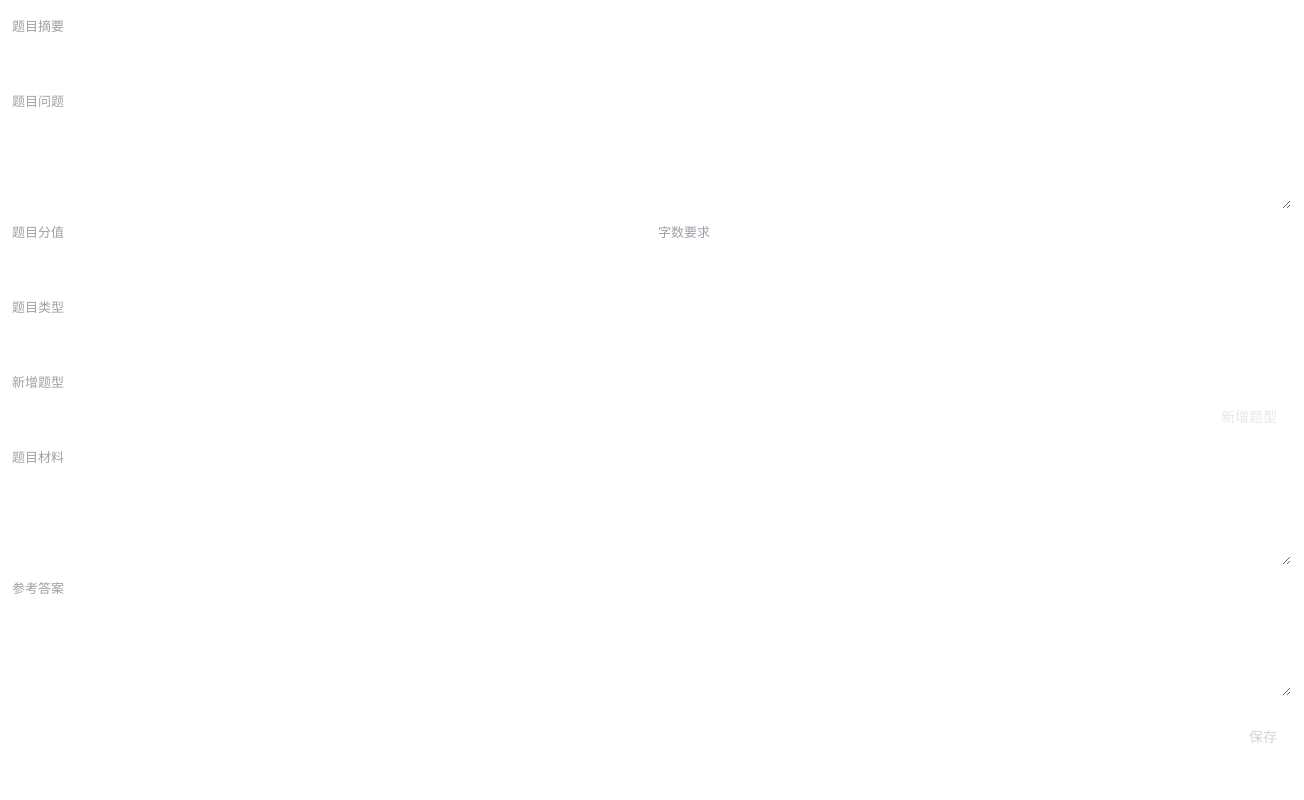
Test: question form validates required fields before submit
The image size is (1304, 800).
Step 1. Click the button "保存" → (1263, 736), box [1234,717,1292,755]
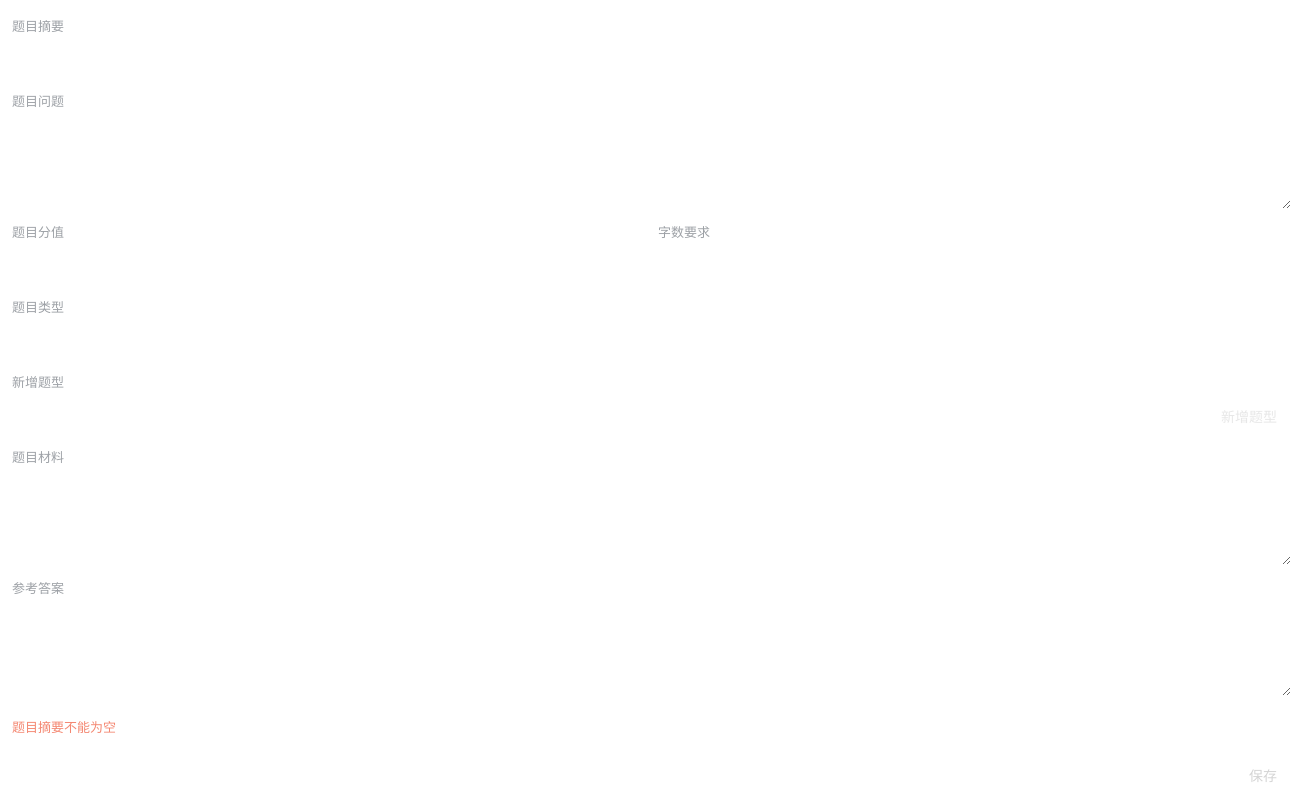
Expected: the text "题目摘要不能为空" is shown, [12,719,116,735]
